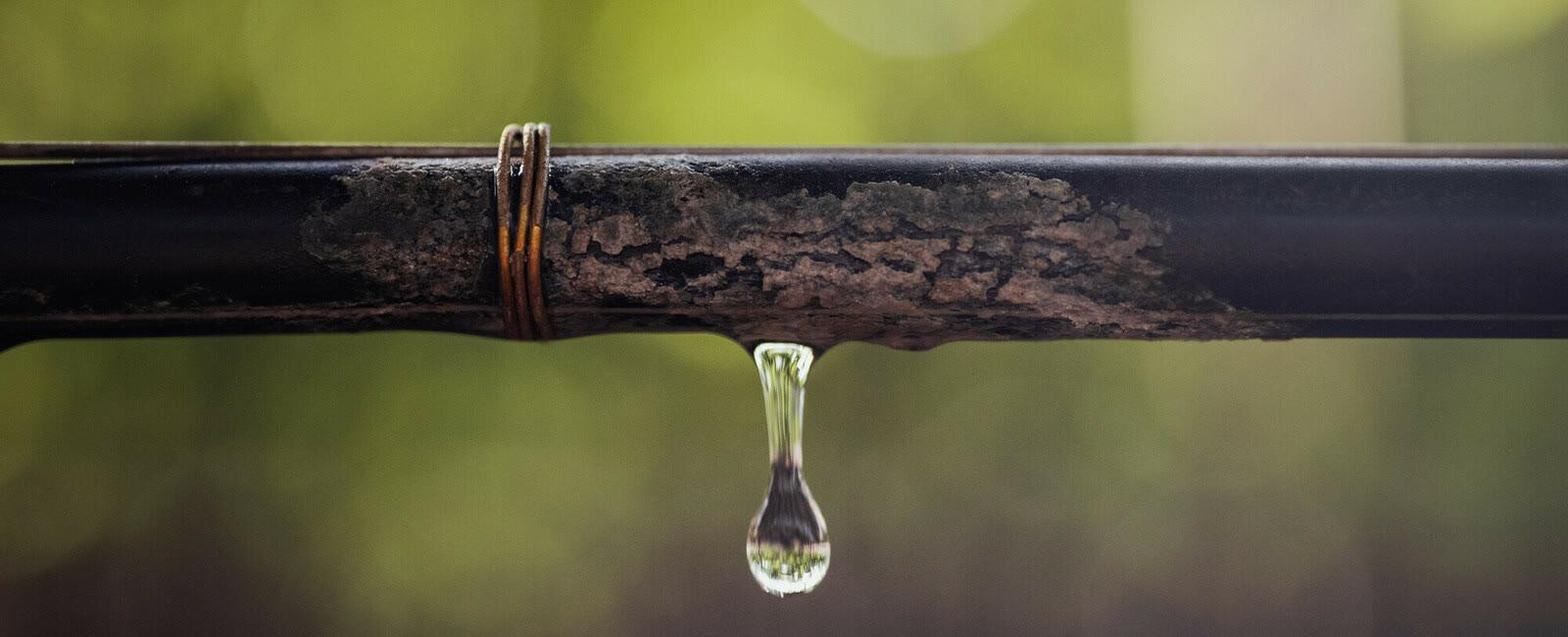water drop: (737, 317, 839, 598)
